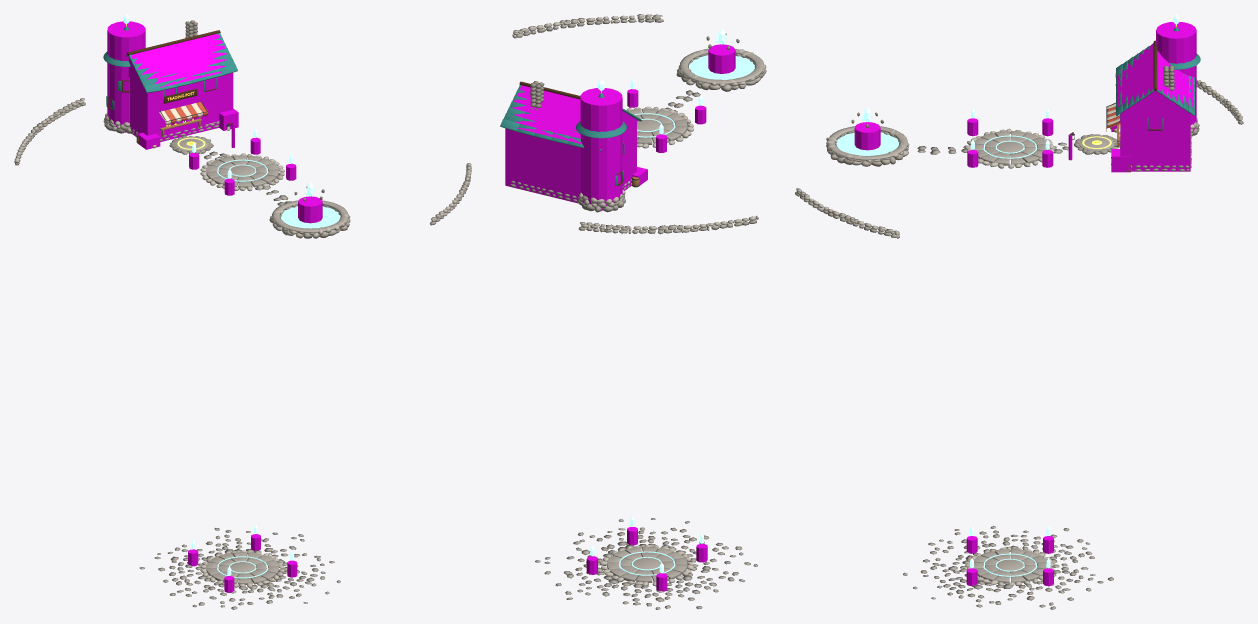
File: hub2.glb
3 views of the same model, side by side, from view 1: azimuth 30°, elevation 25°; view 2: azimuth 150°, elevation 25°; view 3: azimuth 270°, elevation 25° (orthographic). The views are drawn at different scales.
Visible parts, largest first — view 1: COL_TP_Body, COL_TP_Roof, H2_StationFlags, COL_TP_Tower, WALK_LiftPad, WALK_StationPad, H2_TP_Roof, WALK_RimWalls, WALK_WS_Lip, H2M_SpiritWater, H2_WS_Rim, COL_LiftPosts (+3 smaller); view 2: COL_TP_Body, COL_TP_Tower, H2_StationFlags, COL_TP_Roof, WALK_RimWalls, WALK_StationPad, WALK_LiftPad, H2_TP_Roof, WALK_WS_Lip, H2M_SpiritWater, H2_WS_Rim, COL_StationPosts (+6 smaller); view 3: COL_TP_Body, COL_TP_Roof, H2_StationFlags, WALK_StationPad, WALK_LiftPad, COL_TP_Tower, WALK_RimWalls, H2_TP_Roof, WALK_WS_Lip, H2_WS_Rim, COL_LiftPosts, H2M_SpiritWater (+2 smaller).
Boxes of the visible parts, box(x1,y1,x2,y2) form: COL_TP_Body: box(130, 72, 233, 141); COL_TP_Roof: box(128, 34, 227, 88); H2_StationFlags: box(139, 528, 340, 609); COL_TP_Tower: box(107, 21, 145, 132); WALK_LiftPad: box(206, 155, 278, 188); WALK_StationPad: box(206, 552, 278, 584); H2_TP_Roof: box(126, 30, 237, 92); WALK_RimWalls: box(14, 98, 471, 225); WALK_WS_Lip: box(272, 200, 348, 232); H2M_SpiritWater: box(280, 206, 340, 228); H2_WS_Rim: box(269, 202, 350, 238); COL_LiftPosts: box(189, 137, 296, 195); COL_TP_Body: box(505, 122, 636, 203); COL_TP_Tower: box(580, 88, 622, 210); H2_StationFlags: box(535, 518, 757, 609); COL_TP_Roof: box(511, 85, 638, 144); WALK_RimWalls: box(512, 14, 758, 234); WALK_StationPad: box(607, 546, 687, 582); WALK_LiftPad: box(627, 108, 687, 144); H2_TP_Roof: box(500, 81, 641, 151); WALK_WS_Lip: box(679, 48, 763, 84); H2M_SpiritWater: box(689, 55, 754, 79); H2_WS_Rim: box(676, 49, 766, 91); COL_StationPosts: box(586, 527, 707, 591); COL_TP_Body: box(1120, 113, 1190, 171); COL_TP_Roof: box(1118, 44, 1192, 113); H2_StationFlags: box(903, 526, 1113, 609); WALK_StationPad: box(973, 549, 1047, 583); WALK_LiftPad: box(972, 131, 1046, 165); COL_TP_Tower: box(1156, 22, 1196, 132); WALK_RimWalls: box(795, 80, 1243, 238); H2_TP_Roof: box(1115, 40, 1194, 115); WALK_WS_Lip: box(827, 126, 907, 160); H2_WS_Rim: box(826, 129, 909, 166); COL_LiftPosts: box(967, 118, 1053, 167); H2M_SpiritWater: box(836, 132, 899, 155).
Size of the model in its own units: 33.66 by 48.1 by 36.49.
